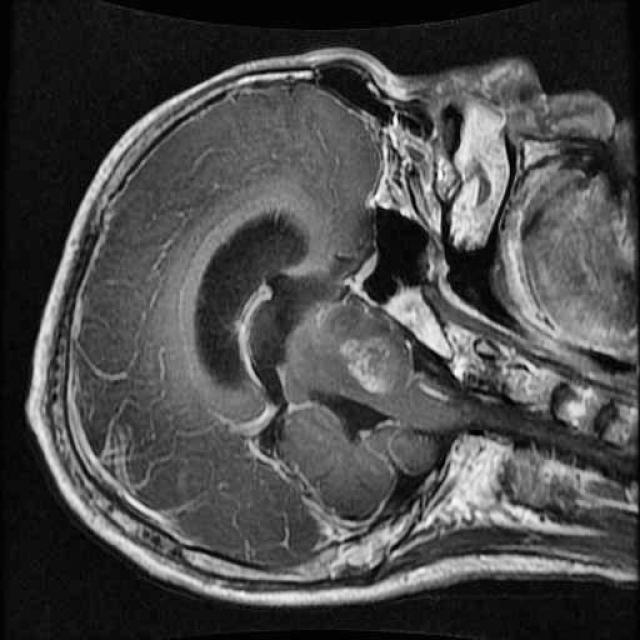Non-Tumor: (329, 320, 426, 401)
